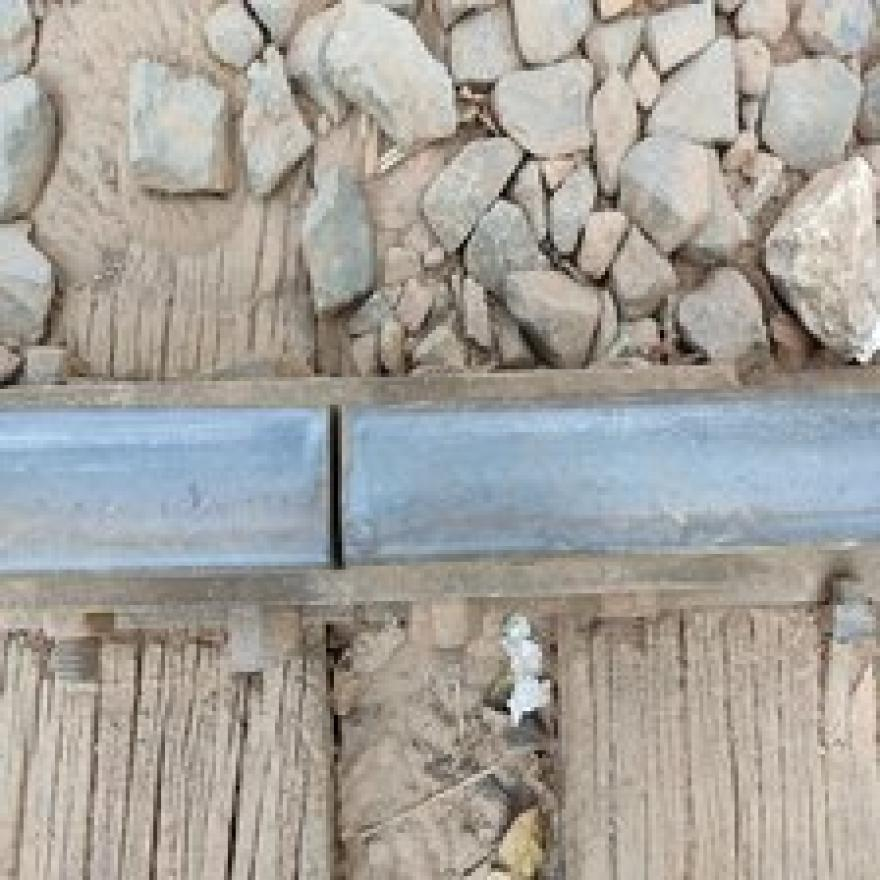railway-gap: (205, 360, 463, 602)
